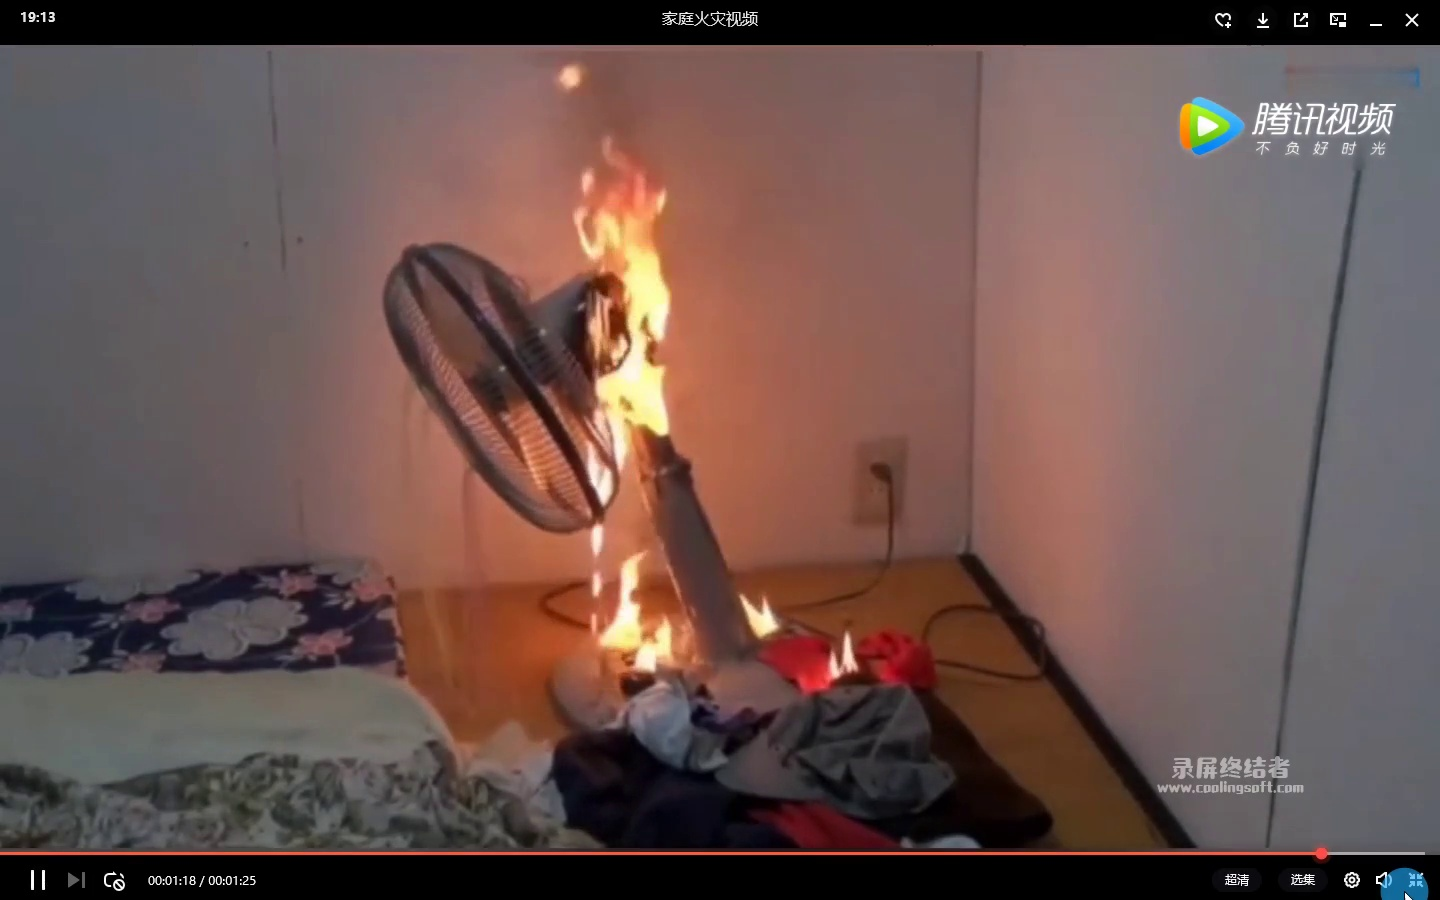fire: (567, 135, 700, 445)
